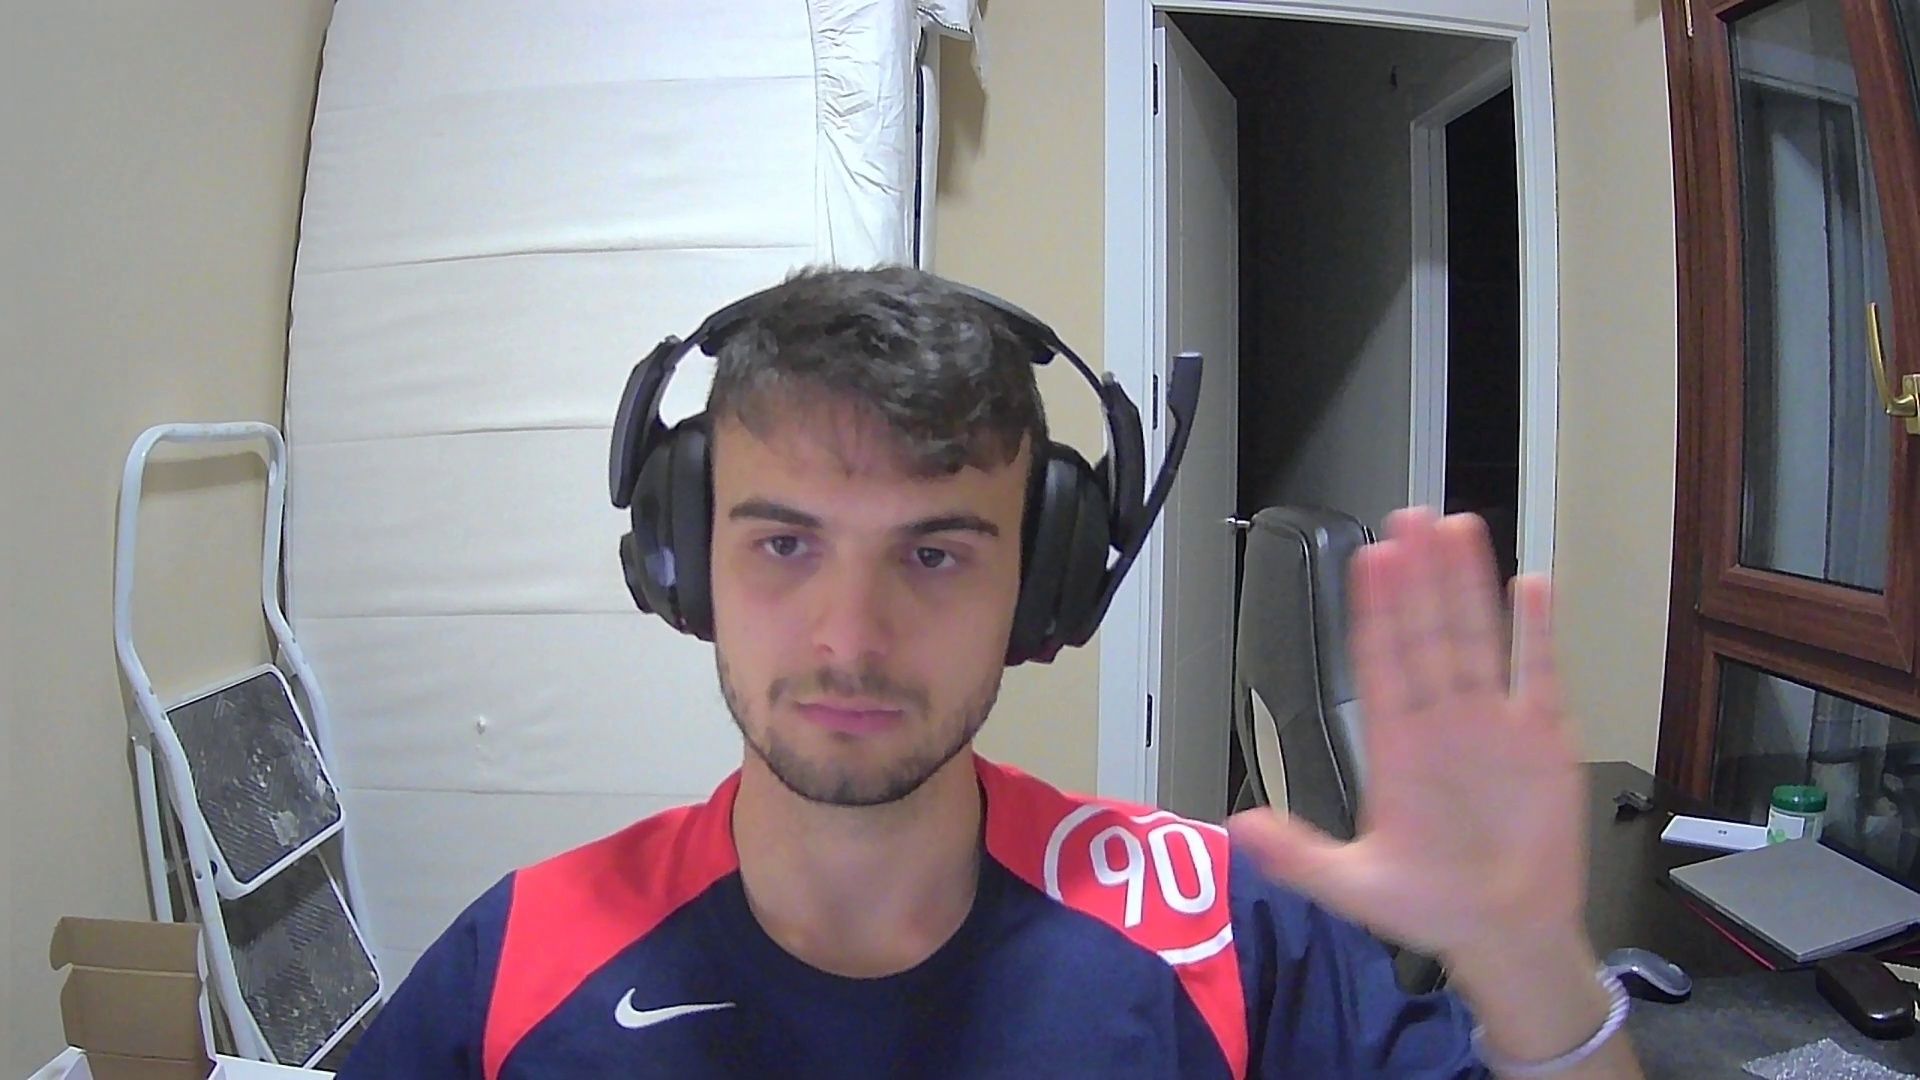Palm: (1224, 498, 1586, 992)
